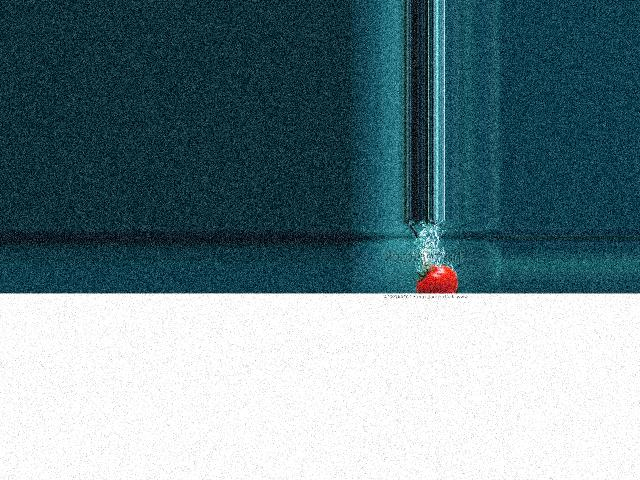tomato: (415, 265, 457, 293)
